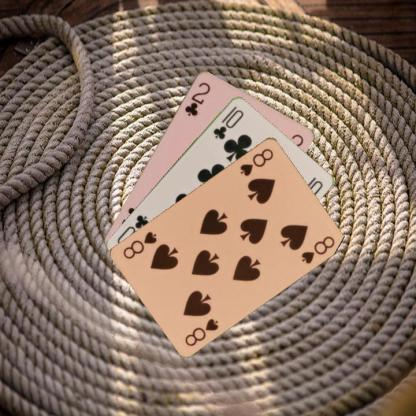10c: (210, 103, 245, 140)
2c: (182, 79, 211, 117)
8s: (237, 146, 275, 178), (182, 315, 220, 347)
